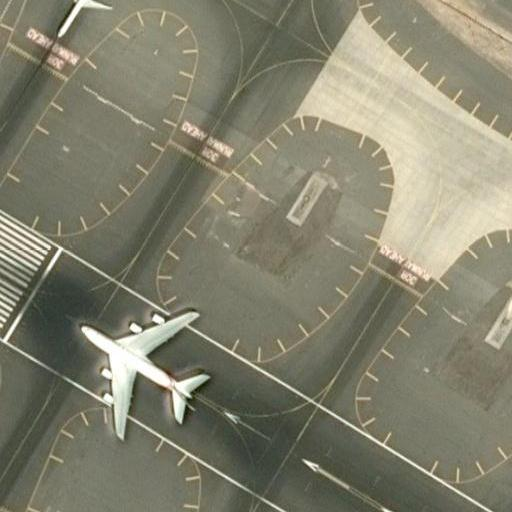Aircraft: (65, 294, 216, 433), (54, 0, 121, 36)
